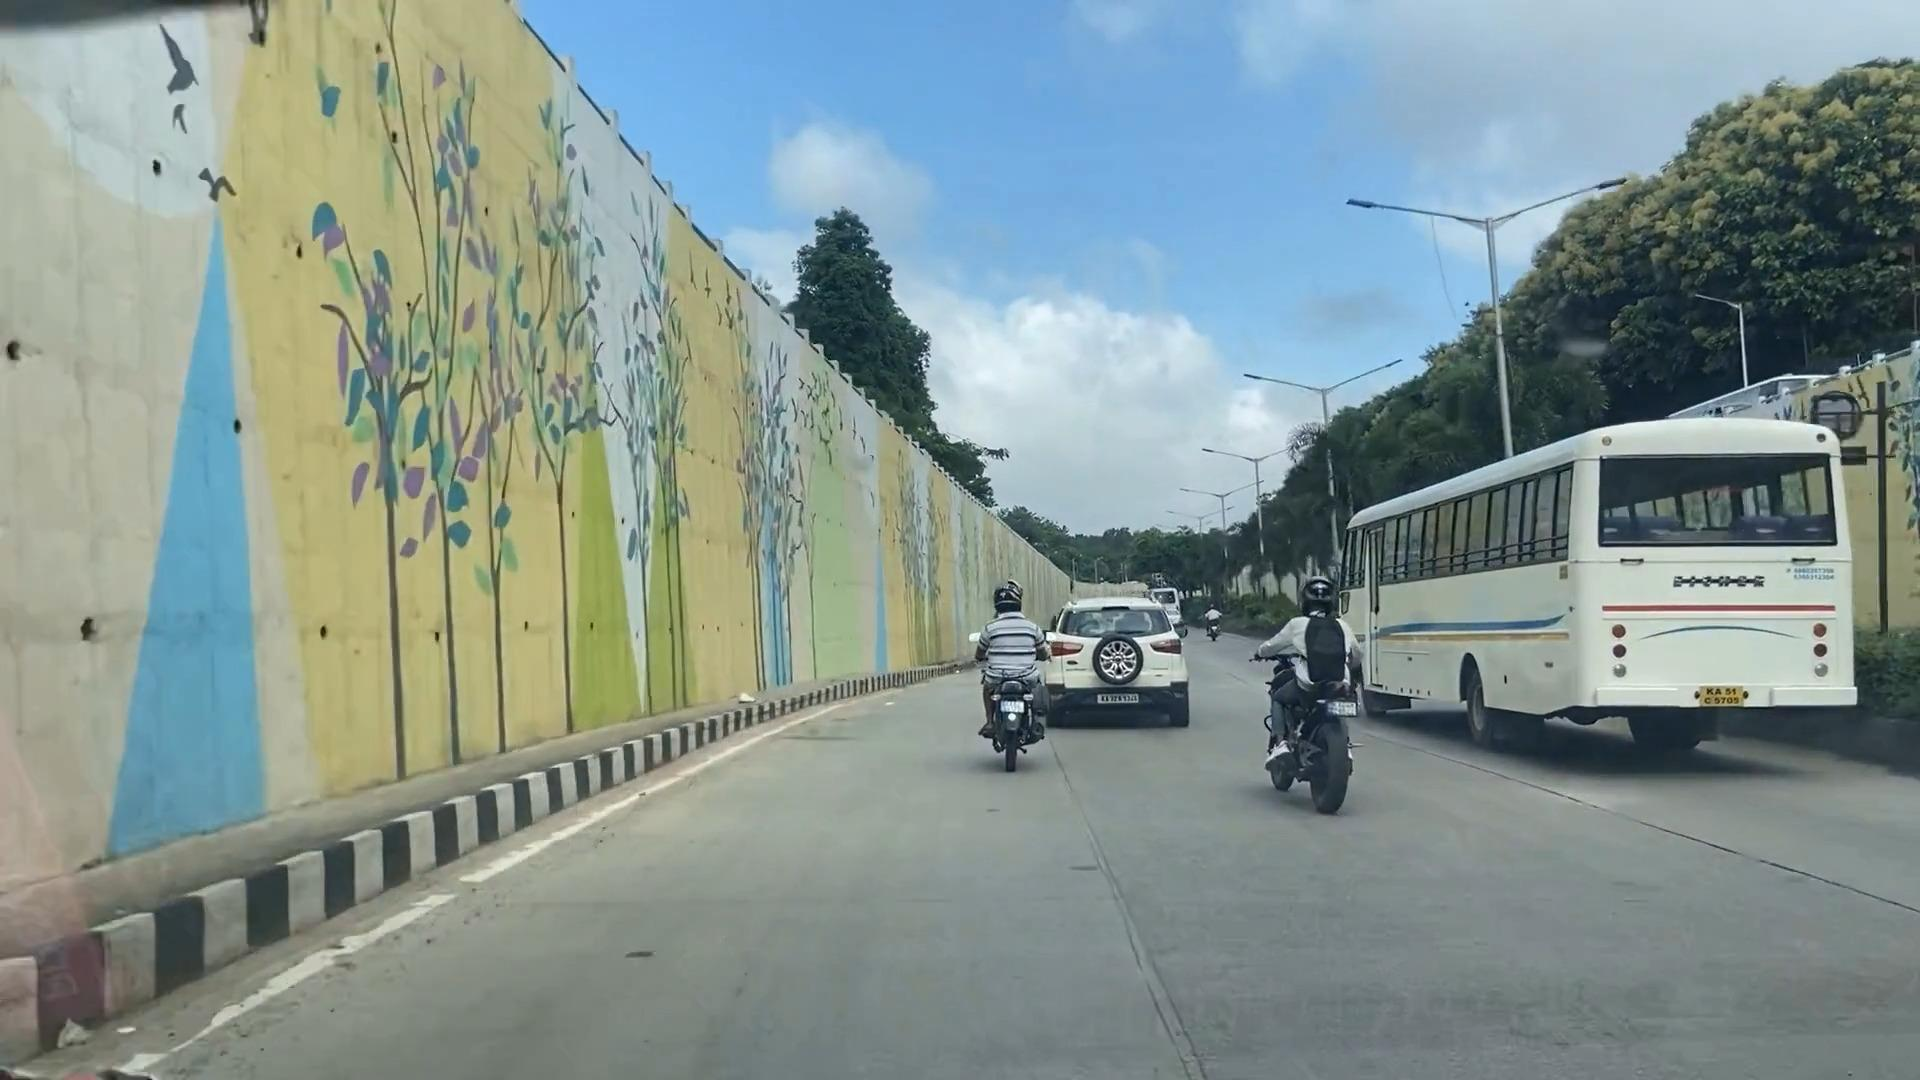HMV: (1348, 417, 1855, 746)
LMV: (1270, 572, 1365, 803), (1048, 584, 1189, 731), (971, 580, 1047, 758)
